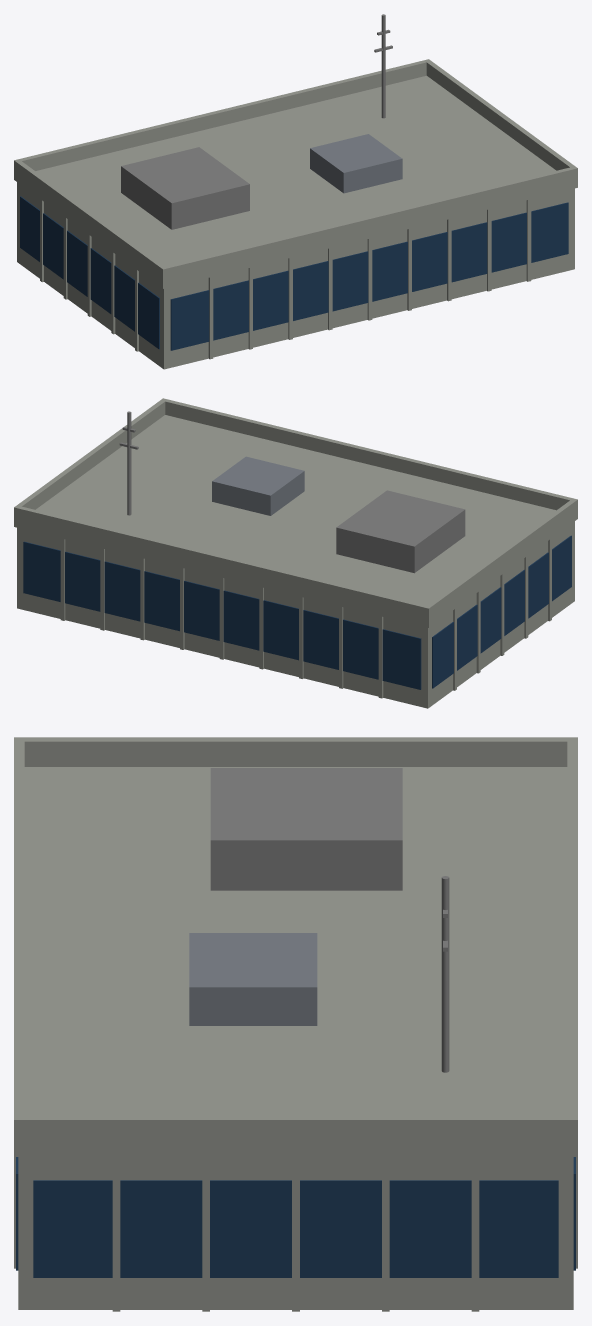
File: mashup-main-top-prebuilt.fbx
3 renders of one model, top to bottom at view 1: azimuth 30°, elevation 25°; view 2: azimuth 150°, elevation 25°; view 3: azimuth 270°, elevation 25°, orthographic. The views are drawn at different scales.
Visible parts, largest first — view 1: a201.MainTop; view 2: a201.MainTop; view 3: a201.MainTop.
Part boxes in pixels (<box>): a201.MainTop: <box>14,14,577,369</box>; a201.MainTop: <box>14,398,577,708</box>; a201.MainTop: <box>14,737,577,1311</box>.
Bounding box in the file's own units: 21.2 × 9.3 × 13.2.
